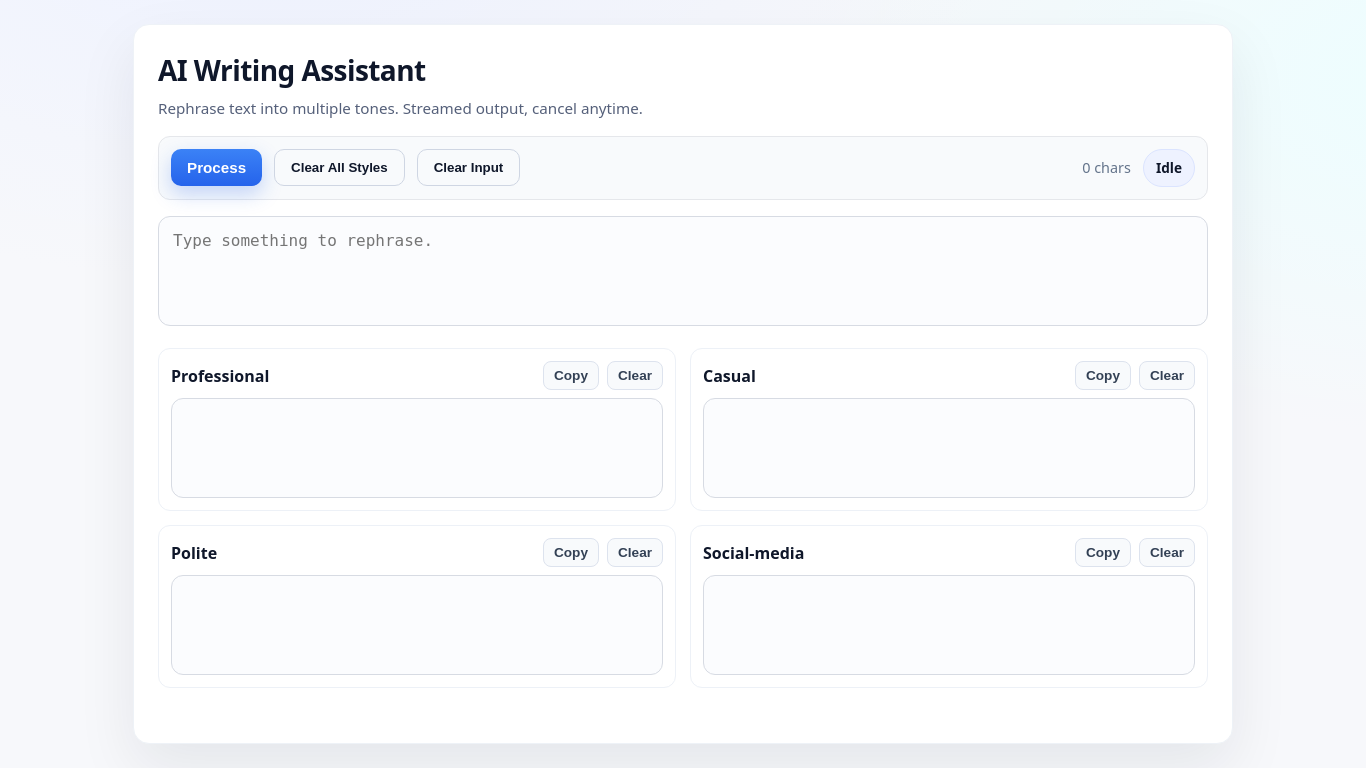
it: clear controls: Clear All Styles and Clear Input
Type "Hi there" into the text box with placeholder "Type something to rephrase." at point(683, 271), box [158,216,1208,326]
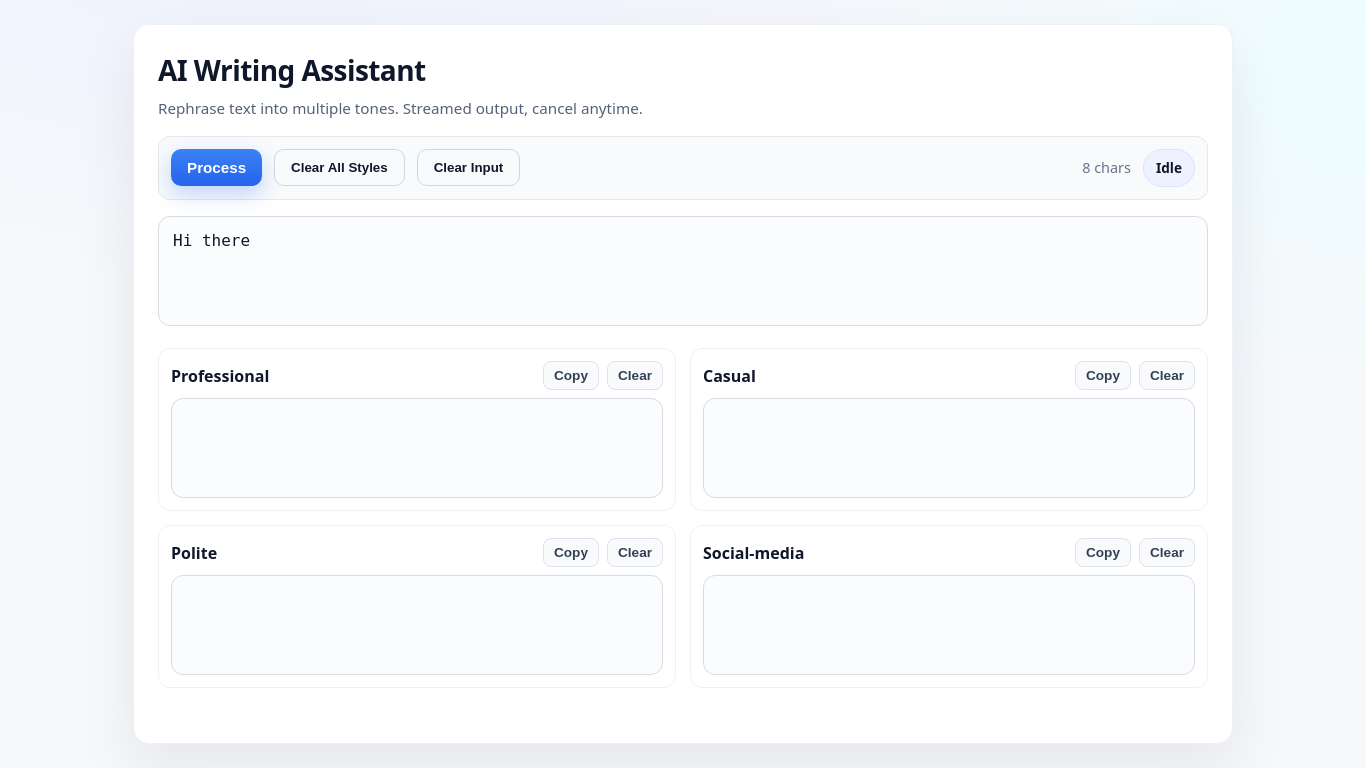
Click the button "Process" at point(217, 168), box [171,150,262,186]
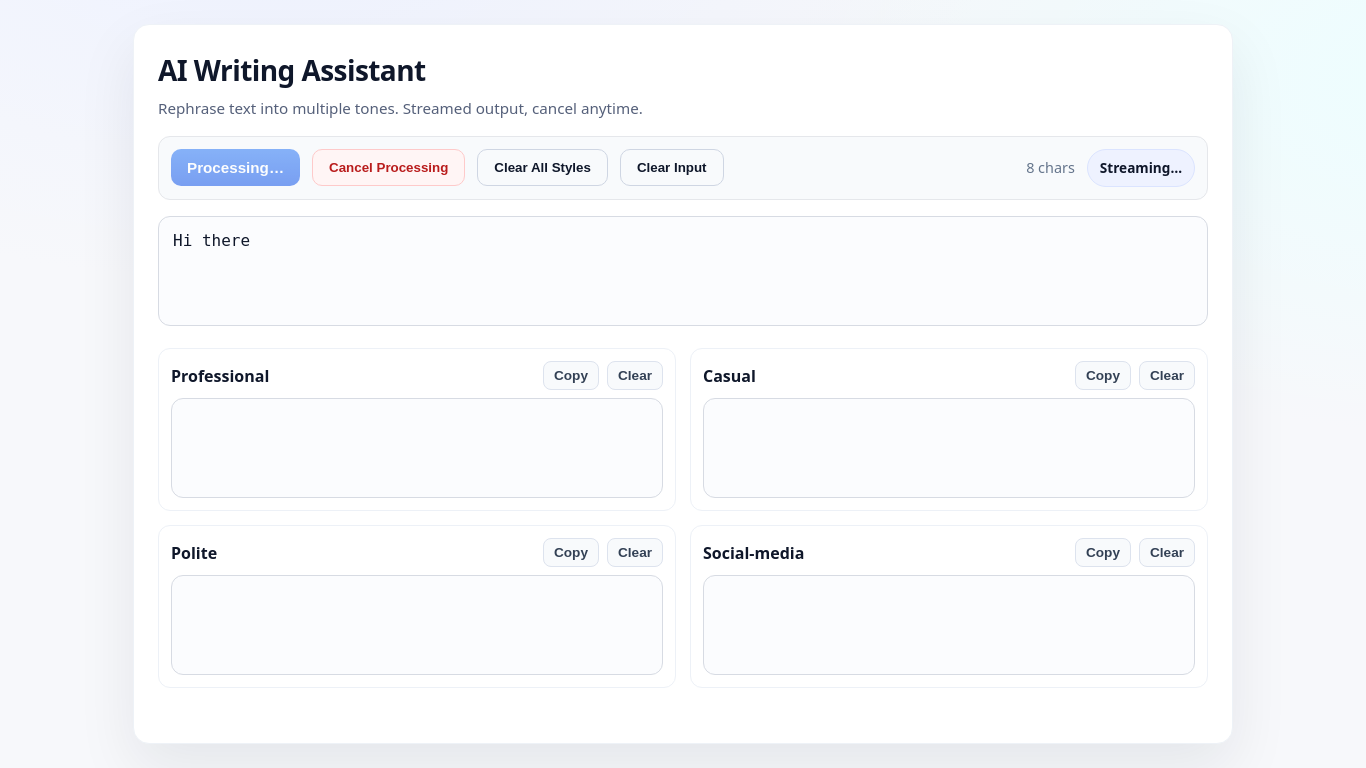
Note: clear just styles
Click the button "Clear All Styles" at point(543, 168), box [477,150,608,186]
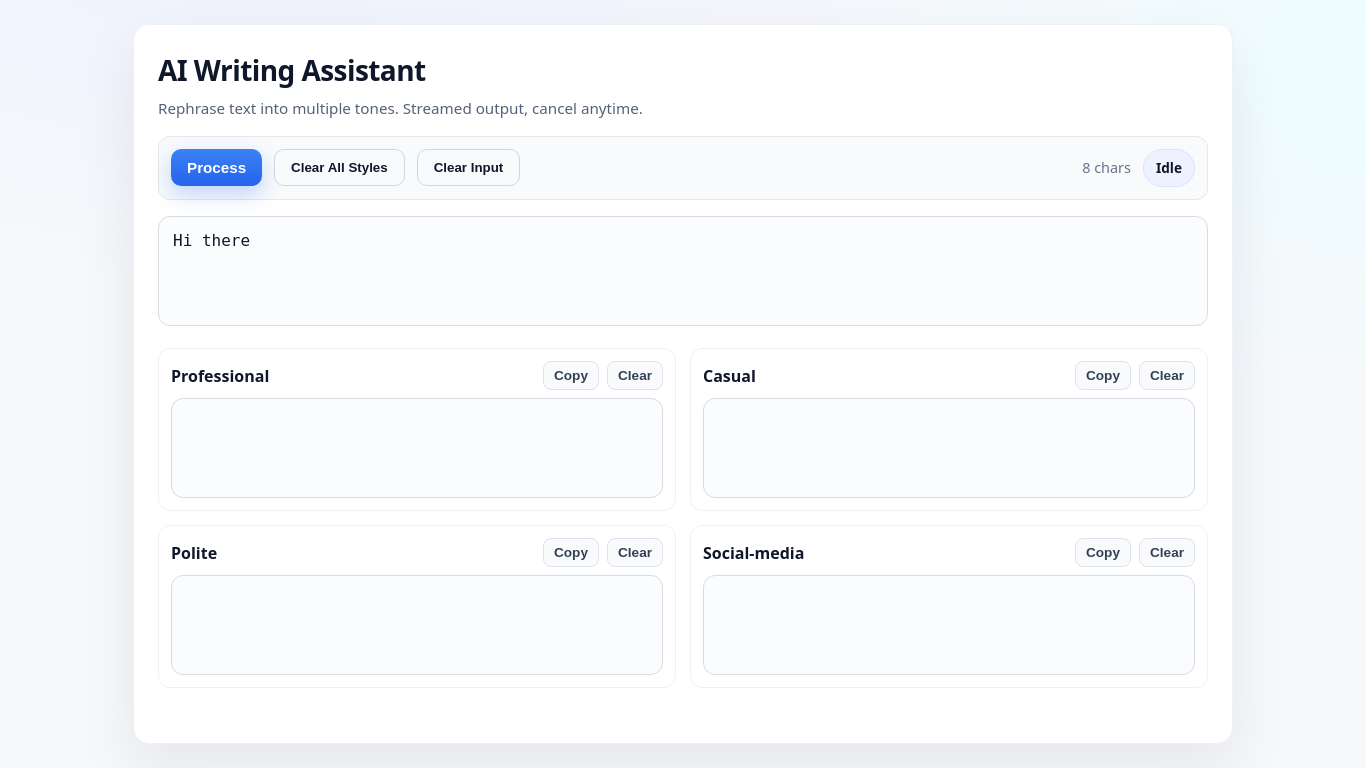
Check: the text box named "Casual rephrased text" is empty, box [703,398,1195,498]
Note: clear input
Click the button "Clear Input" at point(468, 168), box [417,150,520,186]
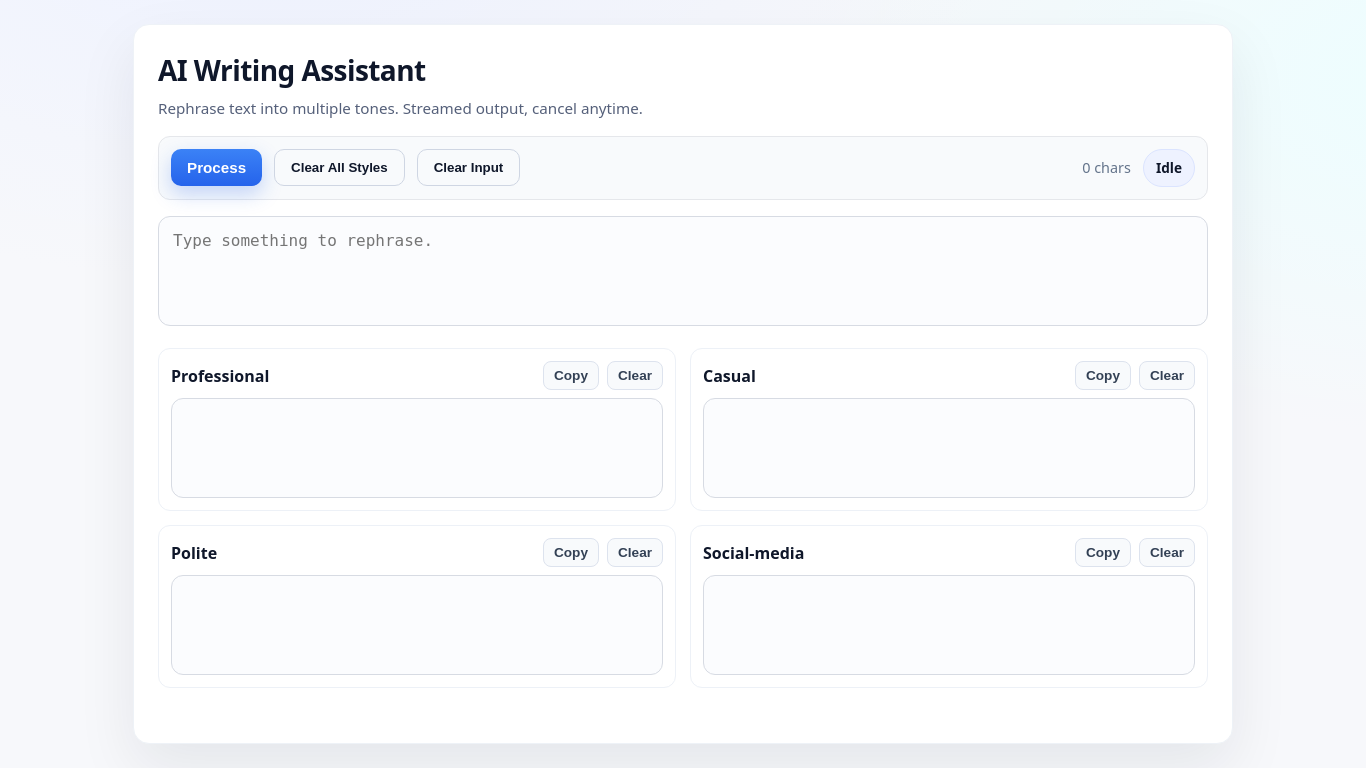
Check: the text box with placeholder "Type something to rephrase." is empty, box [158,216,1208,326]
